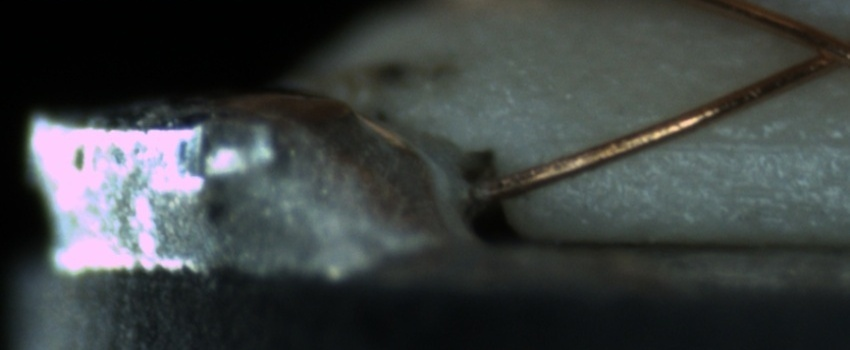CL: (791, 22, 849, 77)
DL: (555, 111, 850, 171)
